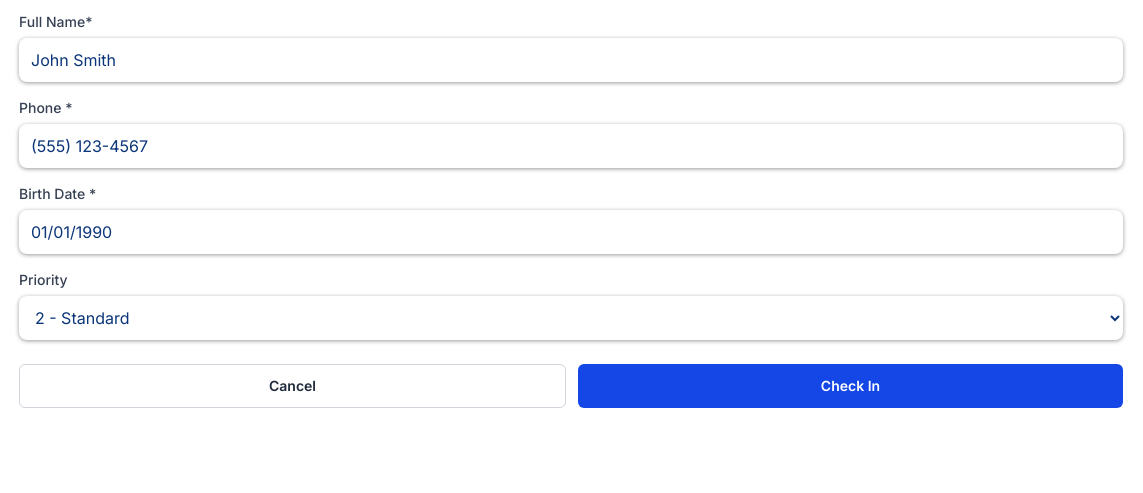
NewPatientCheckInForm › validates phone is required
The width and height of the screenshot is (1143, 493).
Clear phone field
Clear the field showing "(555) 123-4567": (571, 146) [19,124,1123,168]
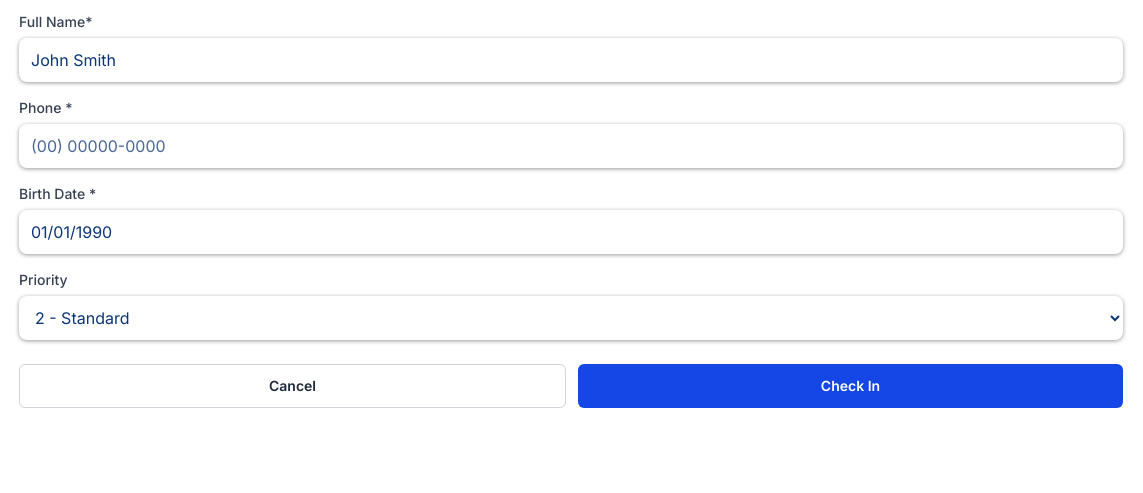
Try to submit
Click the button "Check In": (850, 386) [578,364,1123,408]
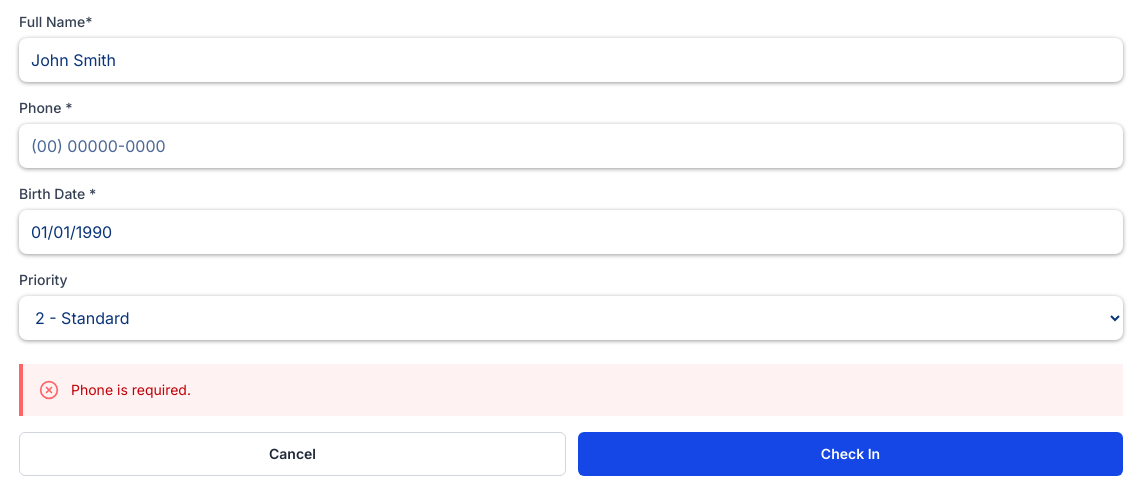
Expected: the text "Phone is required." is shown, [71,381,191,398]
